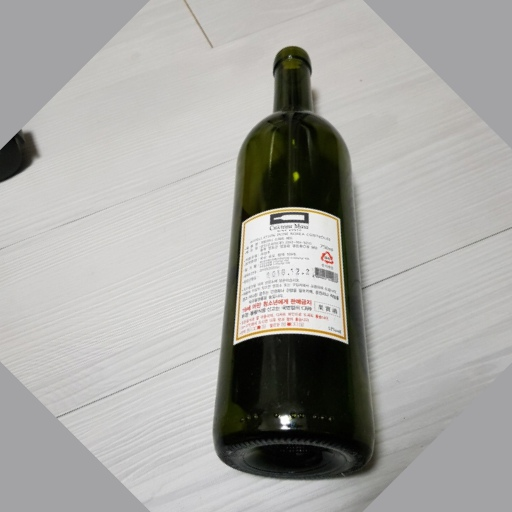Glass_2: (207, 41, 380, 480)
